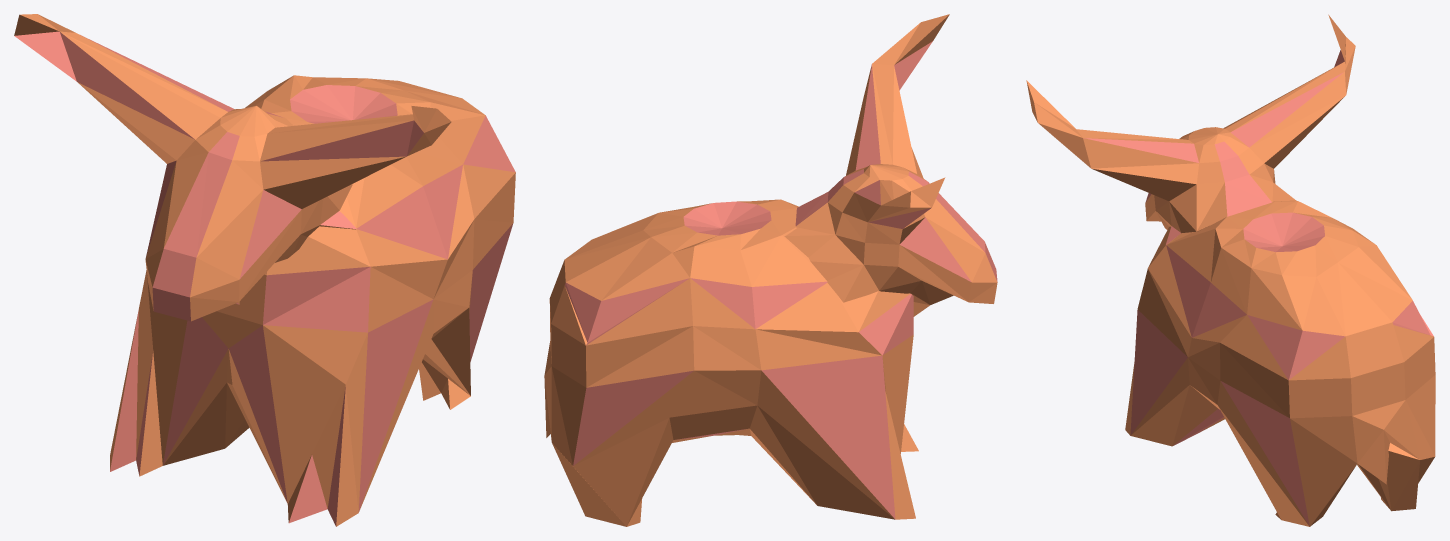
Rendered from prop_pz_buffalo_sunrise.glb.
3 renders of one model, left to right at view 1: azimuth 30°, elevation 25°; view 2: azimuth 150°, elevation 25°; view 3: azimuth 270°, elevation 25°, orthographic. The views are drawn at different scales.
Parts seen in each view (by area): view 1: group1647741081, group1051228443; view 2: group1647741081, group1051228443; view 3: group1647741081, group1051228443.
Part boxes in pixels (x1,y1,x2,y2): group1647741081: (110, 75, 515, 526); group1051228443: (14, 14, 451, 321); group1647741081: (544, 199, 918, 526); group1051228443: (784, 14, 997, 316); group1647741081: (1125, 200, 1435, 526); group1051228443: (1026, 14, 1355, 245).
Size of the model in its own units: 1.08 by 1.05 by 1.07.
